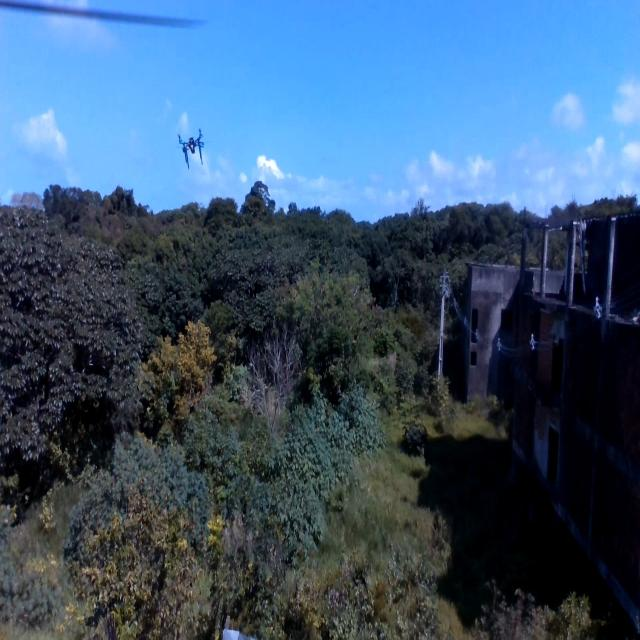-uav-: (176, 124, 210, 175)
